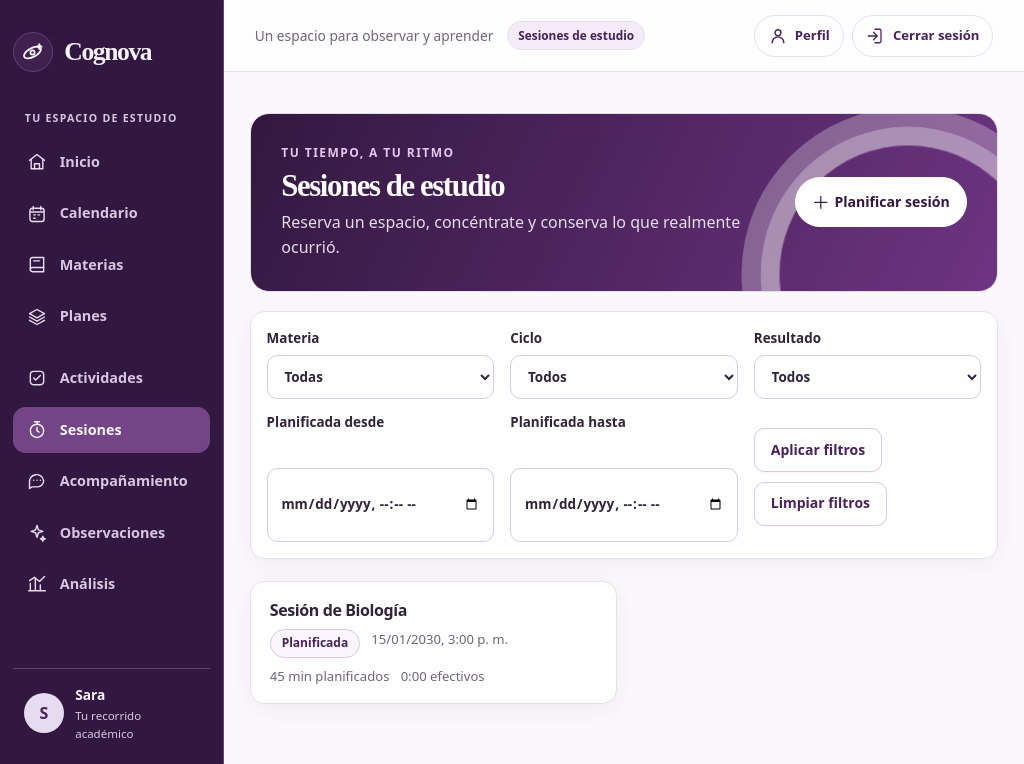
Test: protected study sessions list › applies filters through the API and opens a session with keyboard
The width and height of the screenshot is (1024, 764).
Expected: the link "Sesión de Biología" is shown, [250, 581, 617, 704]
Select "Historia" in the dropdown named "Filtrar sesiones por materia" at [380, 377], box [267, 355, 494, 399]
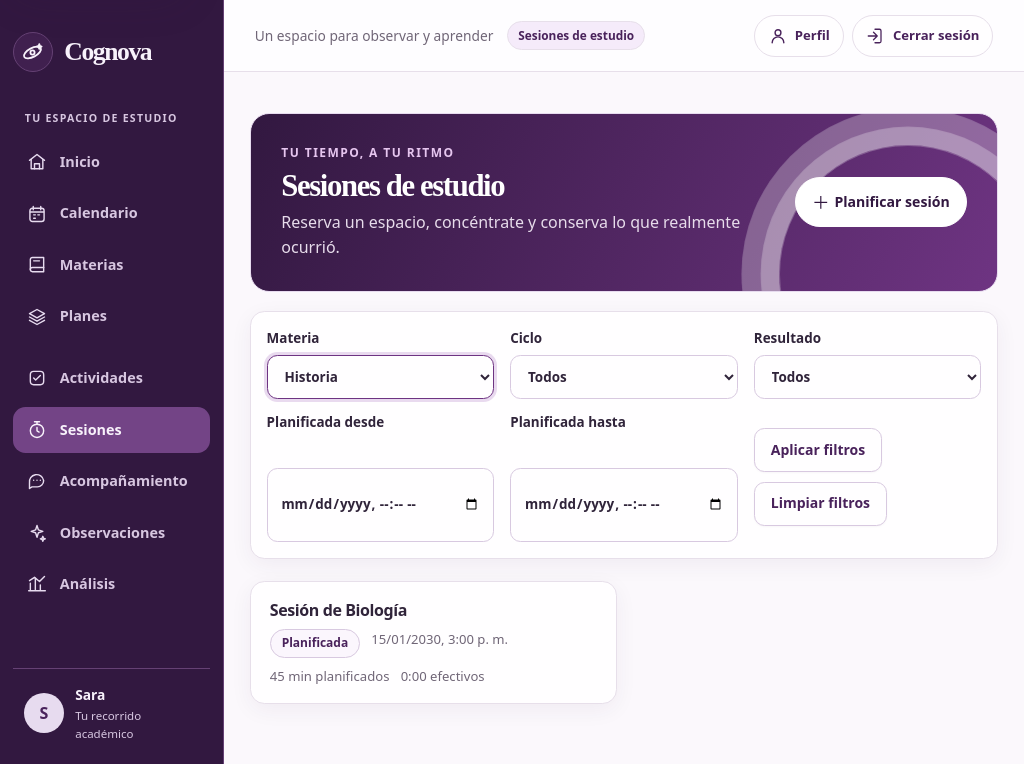
Select "Planificada" in the dropdown named "Filtrar sesiones por ciclo" at [624, 377], box [510, 355, 738, 399]
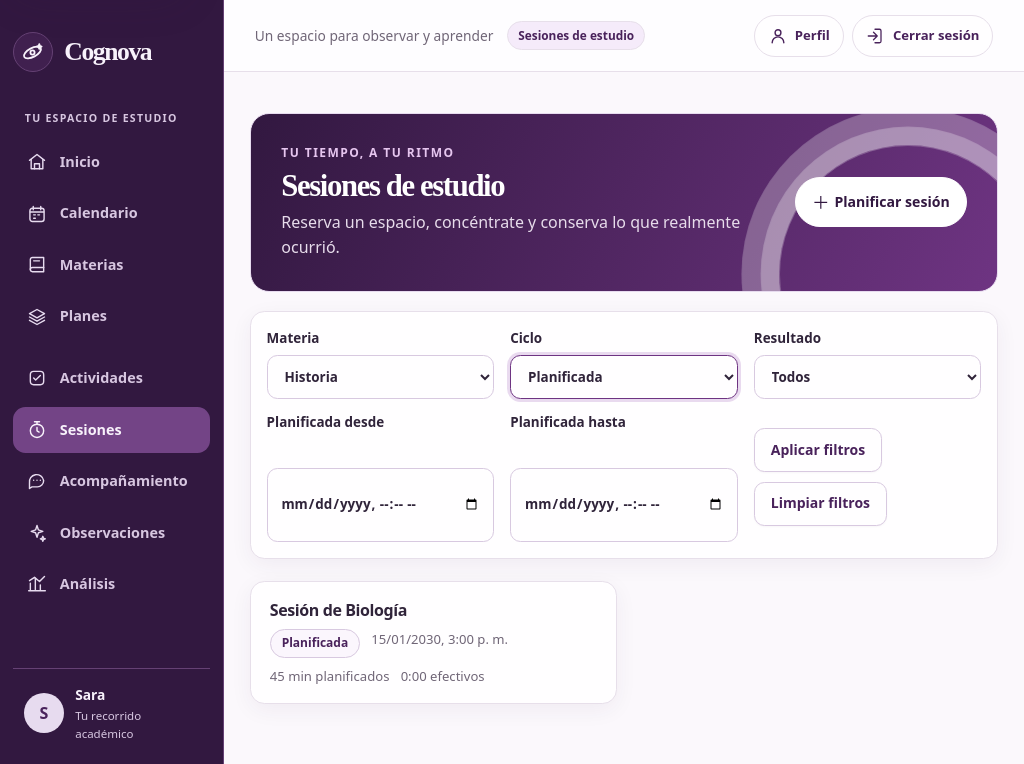
Type "2030-01-01T00:00" into the field labelled "Planificada desde" at [380, 504], box [267, 468, 494, 542]
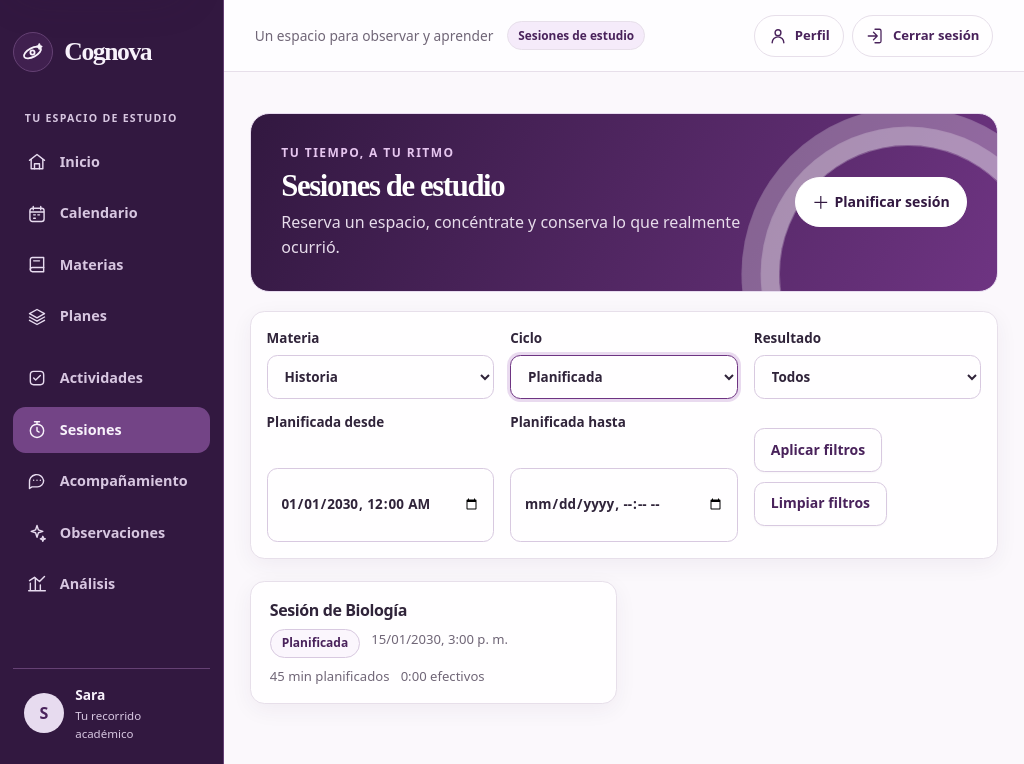
Click the button "Aplicar filtros" at [818, 450], box [754, 428, 882, 472]
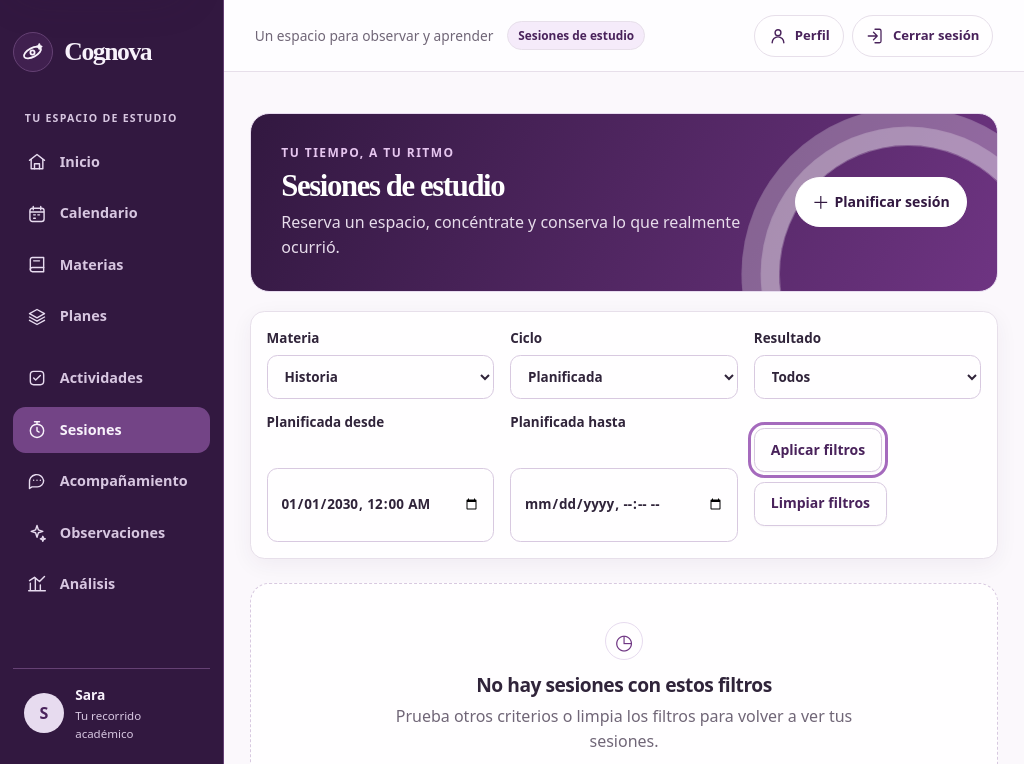
Now the heading "No hay sesiones con estos filtros" is shown, box [476, 671, 772, 698]
Click the button "Limpiar filtros" at [820, 504], box [754, 482, 887, 526]
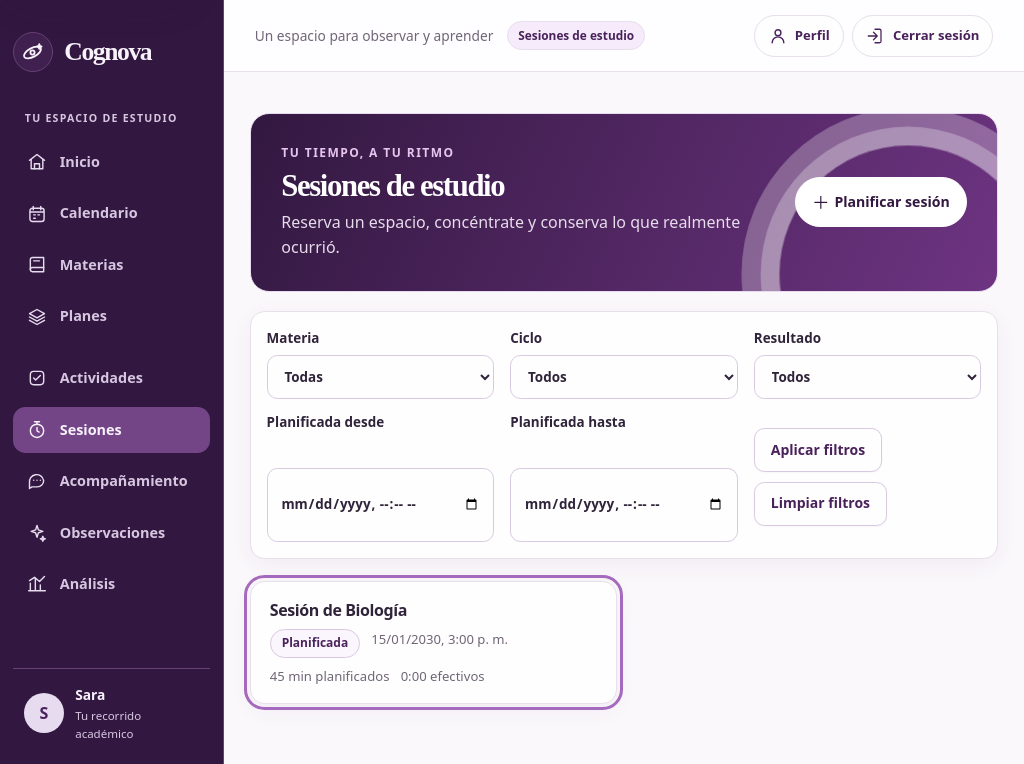
Press Enter
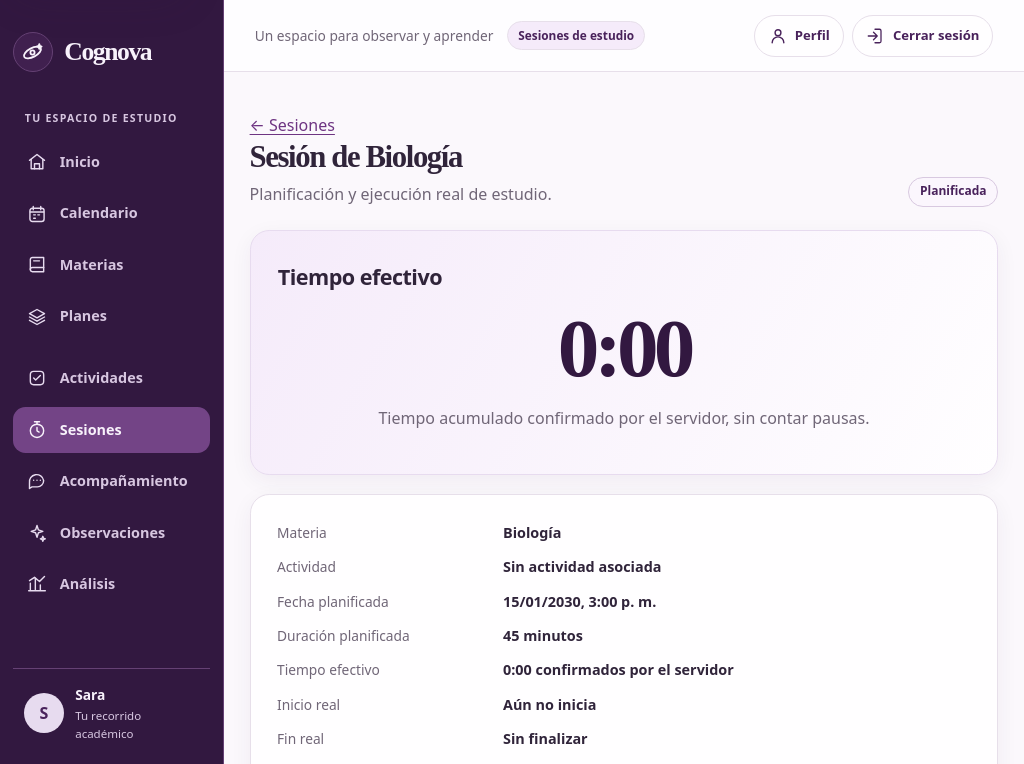
Now the heading "Sesión de Biología" is shown, box [250, 140, 462, 174]
